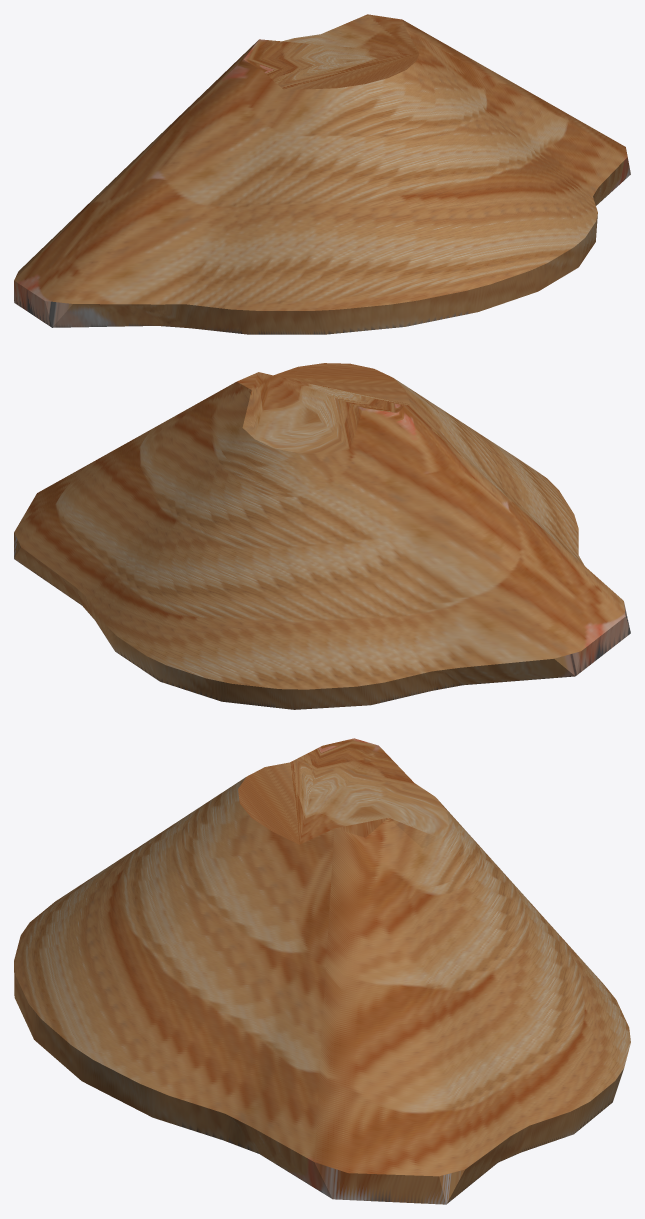
File: roof6.fbx
3 renders of one model, top to bottom at view 1: azimuth 30°, elevation 25°; view 2: azimuth 150°, elevation 25°; view 3: azimuth 270°, elevation 25°, orthographic. The views are drawn at different scales.
Visible parts, largest first — view 1: pCone3; view 2: pCone3; view 3: pCone3.
Boxes of the visible parts, <box> form: pCone3: <box>14,14,630,334</box>; pCone3: <box>14,363,630,709</box>; pCone3: <box>14,738,630,1204</box>.
Size of the model in its own units: 9041 by 3515 by 6749.
Materials: 1 (1 with a texture image).
